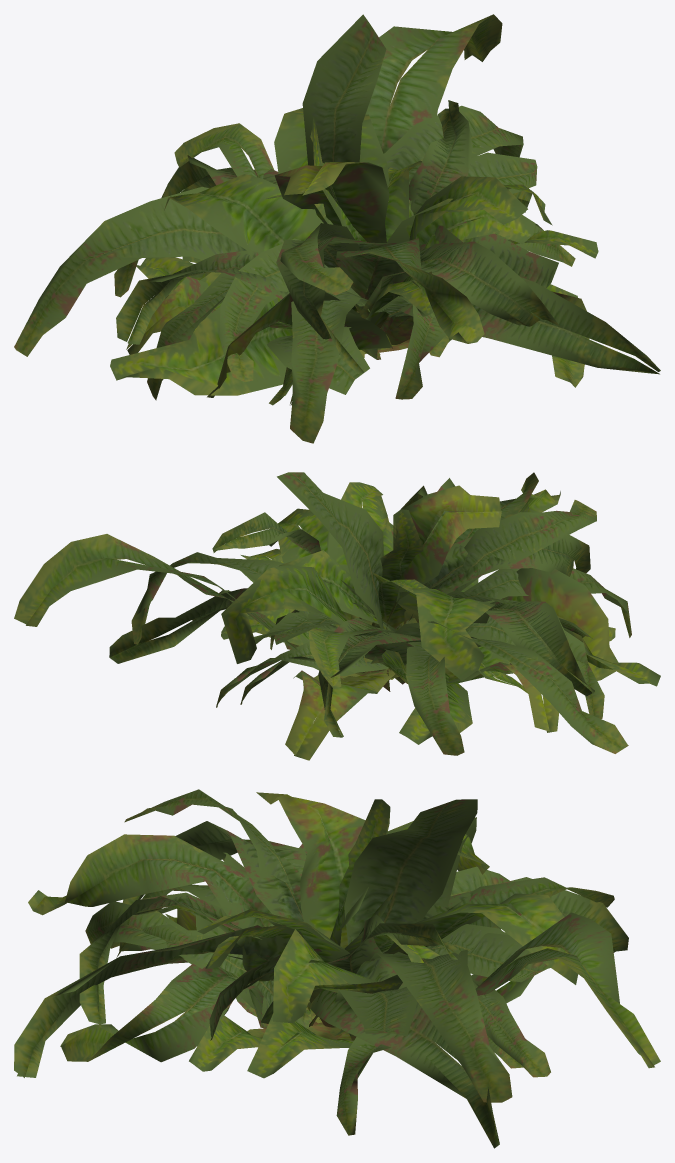
File: ph_fern_02.glb
3 renders of one model, top to bottom at view 1: azimuth 30°, elevation 25°; view 2: azimuth 150°, elevation 25°; view 3: azimuth 270°, elevation 25°, orthographic. The views are drawn at different scales.
Visible parts, largest first — view 1: v0, v1, v2, v3; view 2: v0, v1, v3, v2; view 3: v0, v1, v3, v2.
Boxes of the visible parts, x1,y1,x2,y2 form: v0: (14,14,660,443); v1: (110,117,589,405); v2: (136,217,577,405); v3: (175,100,558,357); v0: (14,472,631,760); v1: (109,478,660,755); v3: (212,512,527,707); v2: (270,554,615,744); v0: (14,792,660,1135); v1: (60,789,614,1148); v3: (116,891,550,1077); v2: (133,896,508,1071).
Size of the model in its own units: 0.9915 by 0.4271 by 0.8954.
1 material, 1 textured.
